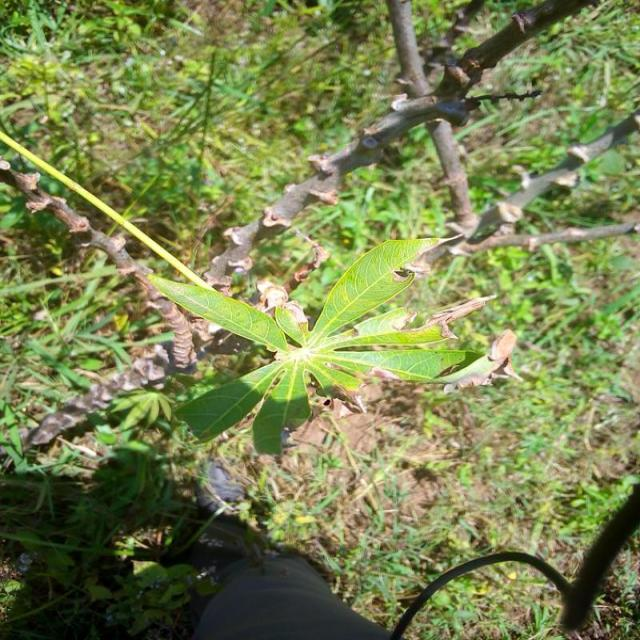cassava leaf: (152, 233, 486, 457), (310, 234, 447, 348), (147, 271, 290, 354)
